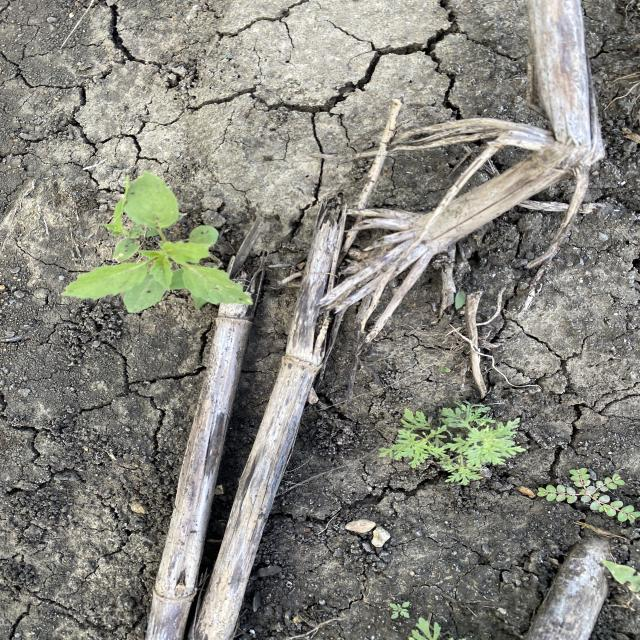CutleafGroundcherry: (57, 170, 259, 315)
Ragweed: (375, 398, 533, 489)
SpottedSpurge: (536, 466, 638, 527)
